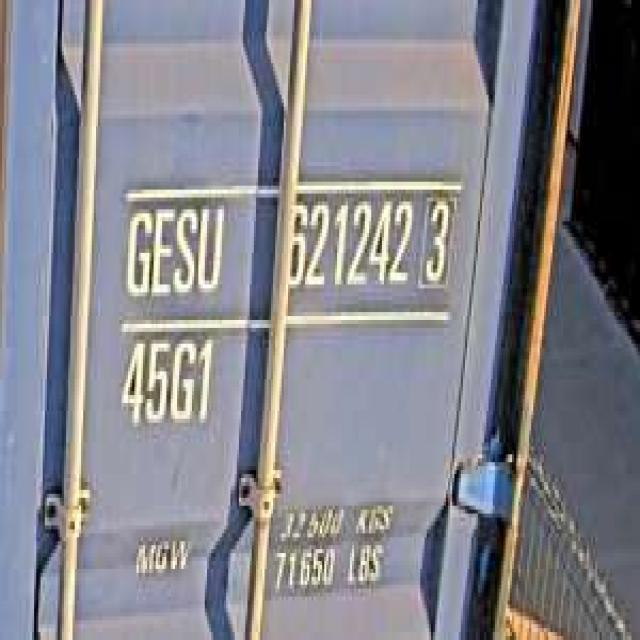dv: (416, 182, 459, 292)
owner: (118, 198, 228, 308)
serial: (284, 190, 414, 300)
size: (113, 332, 213, 434)
